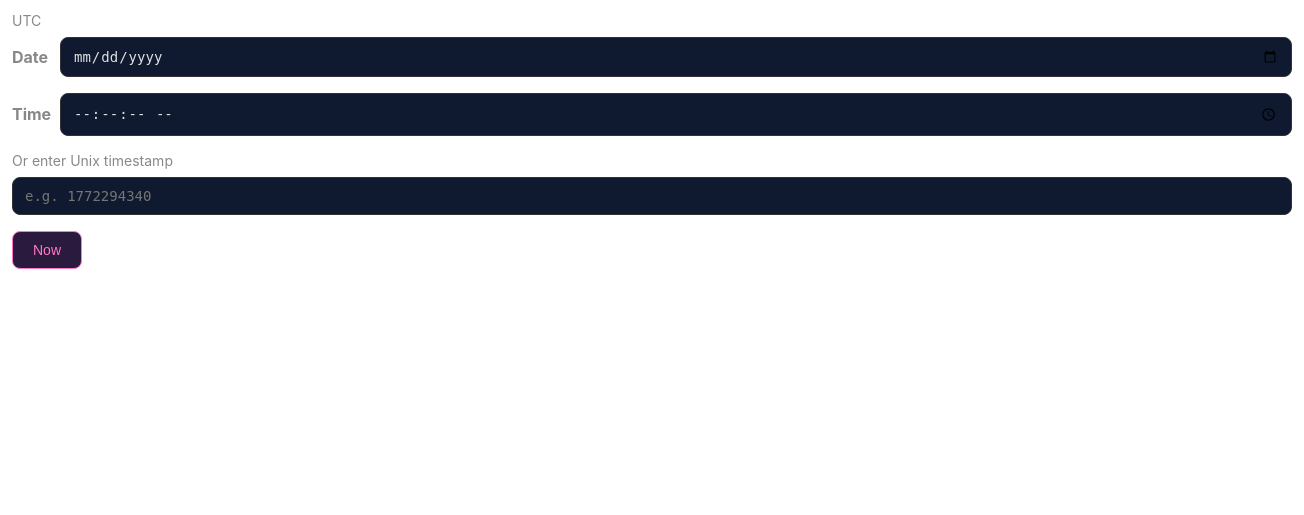
DatetimeUnix › converts unix timestamp to UTC datetime
Type "1700000000" into the field with placeholder "e.g. 1772294340". click: {"x": 652, "y": 196}
box: [12, 177, 1292, 215]
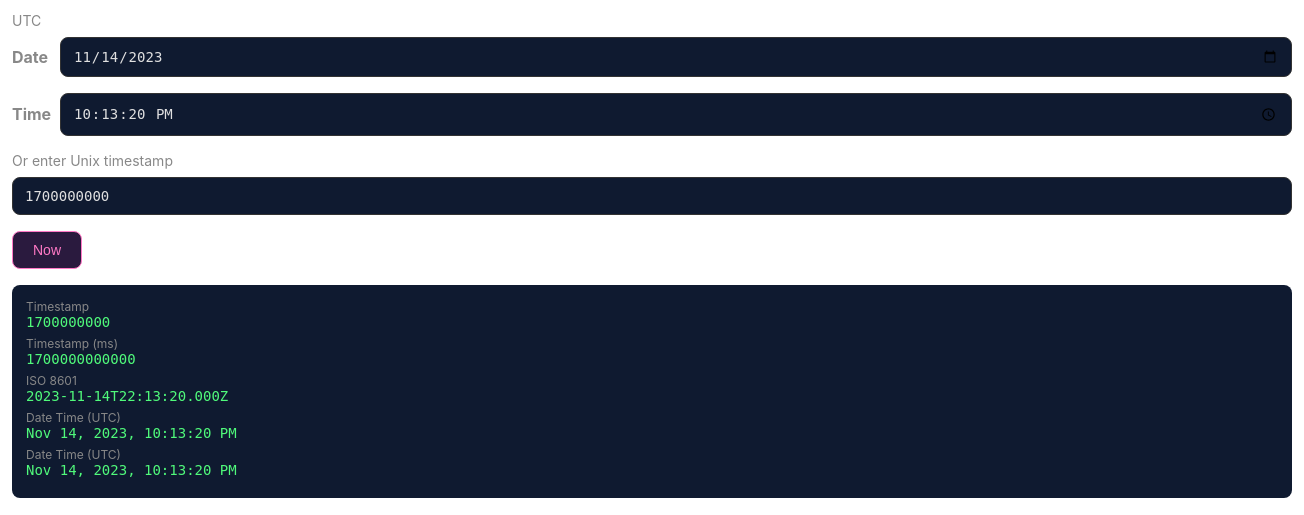
expect the element with class "tool-result" is shown: met, box [12, 285, 1292, 498]
expect the text "1700000000" is shown: met, box [26, 314, 110, 330]
expect the text "2023-11-14T22:13:20.000Z" is shown: met, box [26, 388, 228, 404]
